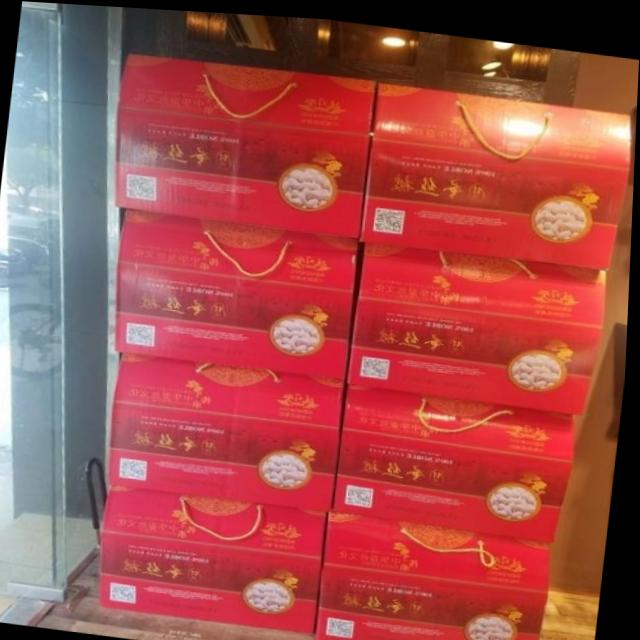box: (360, 78, 632, 264), (116, 50, 379, 234), (351, 236, 609, 408), (118, 207, 361, 376), (338, 379, 578, 535), (113, 349, 346, 507), (104, 484, 331, 629), (321, 506, 555, 640)
